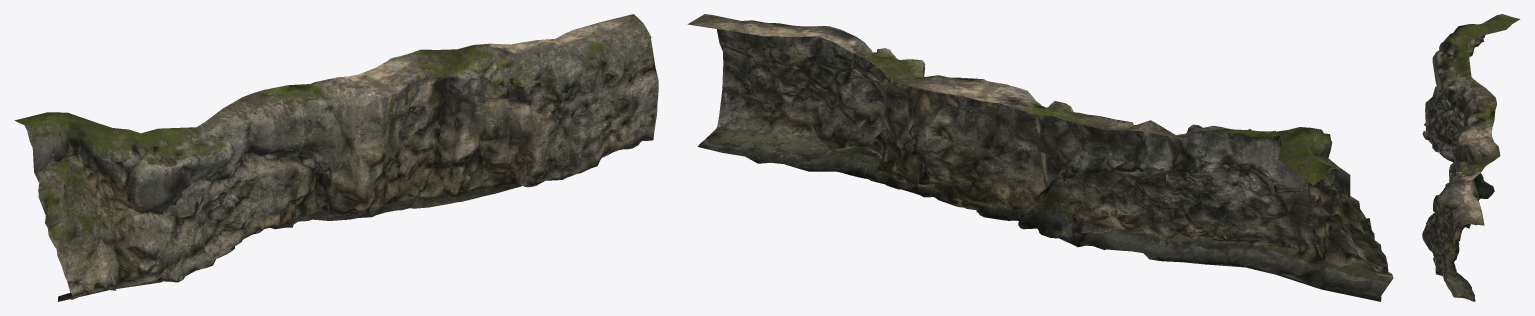
Rendered from cliff02.glb.
3 renders of one model, left to right at view 1: azimuth 30°, elevation 25°; view 2: azimuth 150°, elevation 25°; view 3: azimuth 270°, elevation 25°, orthographic. The views are drawn at different scales.
Parts seen in each view (by area): view 1: coastal_cliff_02_LOD0; view 2: coastal_cliff_02_LOD0; view 3: coastal_cliff_02_LOD0.
Boxes of the visible parts, bbox=[...] form: coastal_cliff_02_LOD0: bbox=[14, 14, 658, 301]; coastal_cliff_02_LOD0: bbox=[687, 14, 1393, 301]; coastal_cliff_02_LOD0: bbox=[1422, 14, 1520, 301].
Bounding box in the file's own units: 40.92 × 10.02 × 8.6.
1 material, 1 textured.
